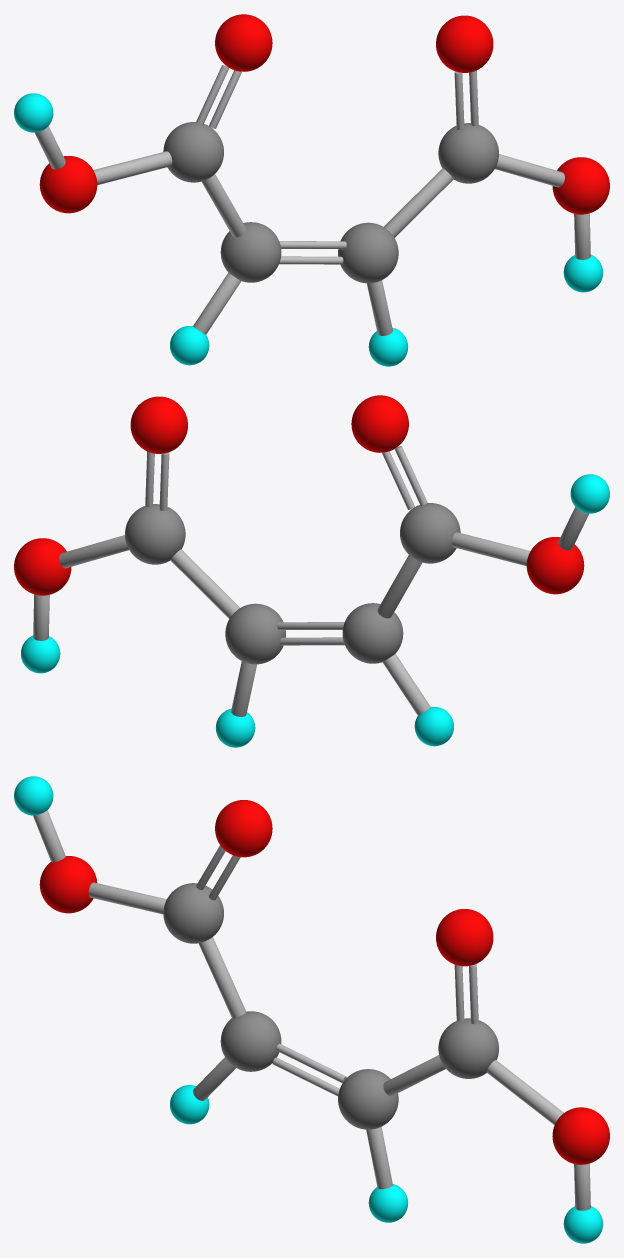
File: maleic acid.glb
The picture shows the model from 3 angles, top to bottom: view 1: azimuth 30°, elevation 25°; view 2: azimuth 150°, elevation 25°; view 3: azimuth 330°, elevation 25°; orthographic projection.
Visible parts, largest first — view 1: CMAtom_3, CMAtom_1, CMAtom_4, CMAtom_0, CMAtom_6, CMAtom_8, CMAtom_10, CMAtom_7, CMBond_4_Segment_0, CMBond_13_Segment_0, CMAtom_11, CMAtom_5 (+13 smaller); view 2: CMAtom_3, CMAtom_1, CMAtom_4, CMAtom_0, CMAtom_6, CMAtom_8, CMAtom_10, CMAtom_7, CMBond_4_Segment_0, CMBond_13_Segment_0, CMAtom_11, CMAtom_5 (+13 smaller); view 3: CMAtom_0, CMAtom_3, CMAtom_4, CMAtom_1, CMAtom_6, CMAtom_8, CMAtom_7, CMAtom_10, CMBond_12_Segment_0, CMBond_5_Segment_0, CMBond_13_Segment_0, CMAtom_11 (+10 smaller).
Part boxes in pixels (x1=…): CMAtom_3: x1=438, y1=123, x2=498, y2=183; CMAtom_1: x1=338, y1=222, x2=398, y2=283; CMAtom_4: x1=163, y1=122, x2=223, y2=182; CMAtom_0: x1=220, y1=222, x2=281, y2=282; CMAtom_6: x1=215, y1=14, x2=272, y2=71; CMAtom_8: x1=436, y1=15, x2=493, y2=72; CMAtom_10: x1=39, y1=156, x2=97, y2=213; CMAtom_7: x1=552, y1=157, x2=609, y2=214; CMBond_4_Segment_0: x1=384, y1=168, x2=453, y2=237; CMBond_13_Segment_0: x1=93, y1=151, x2=172, y2=184; CMAtom_11: x1=14, y1=93, x2=53, y2=132; CMAtom_5: x1=170, y1=326, x2=209, y2=365; CMAtom_3: x1=125, y1=504, x2=185, y2=564; CMAtom_1: x1=225, y1=603, x2=285, y2=664; CMAtom_4: x1=400, y1=503, x2=460, y2=563; CMAtom_0: x1=342, y1=603, x2=403, y2=663; CMAtom_6: x1=351, y1=395, x2=408, y2=452; CMAtom_8: x1=130, y1=396, x2=187, y2=453; CMAtom_10: x1=526, y1=537, x2=584, y2=594; CMAtom_7: x1=14, y1=538, x2=71, y2=595; CMBond_4_Segment_0: x1=170, y1=549, x2=239, y2=618; CMBond_13_Segment_0: x1=451, y1=532, x2=530, y2=565; CMAtom_11: x1=570, y1=474, x2=609, y2=513; CMAtom_5: x1=414, y1=707, x2=453, y2=746; CMAtom_0: x1=220, y1=1011, x2=281, y2=1071; CMAtom_3: x1=438, y1=1018, x2=498, y2=1078; CMAtom_4: x1=163, y1=883, x2=223, y2=943; CMAtom_1: x1=338, y1=1069, x2=398, y2=1129; CMAtom_6: x1=215, y1=800, x2=272, y2=857; CMAtom_8: x1=436, y1=909, x2=493, y2=966; CMAtom_7: x1=552, y1=1107, x2=609, y2=1164; CMAtom_10: x1=39, y1=856, x2=97, y2=913; CMBond_12_Segment_0: x1=486, y1=1060, x2=563, y2=1124; CMBond_5_Segment_0: x1=198, y1=937, x2=246, y2=1018; CMBond_13_Segment_0: x1=88, y1=882, x2=166, y2=914; CMAtom_11: x1=14, y1=776, x2=53, y2=815.
Size of the model in its own units: 6.91 by 4.29 by 0.616.
